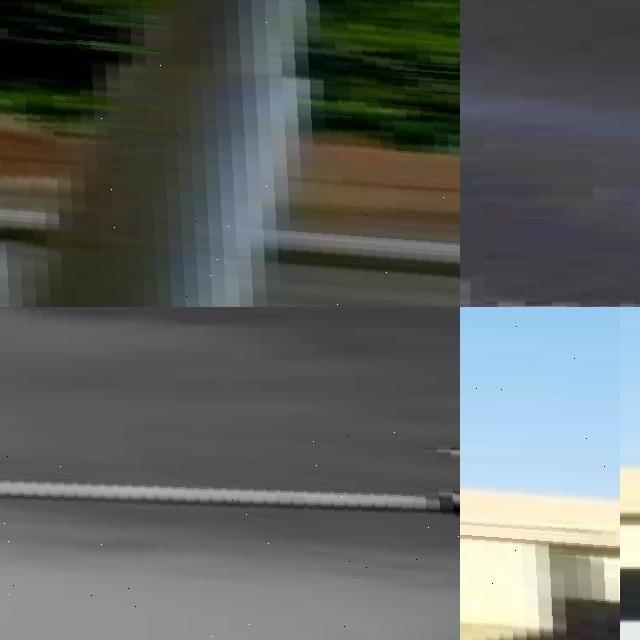street light: (0, 0, 460, 307), (0, 410, 460, 640), (460, 307, 620, 640)
